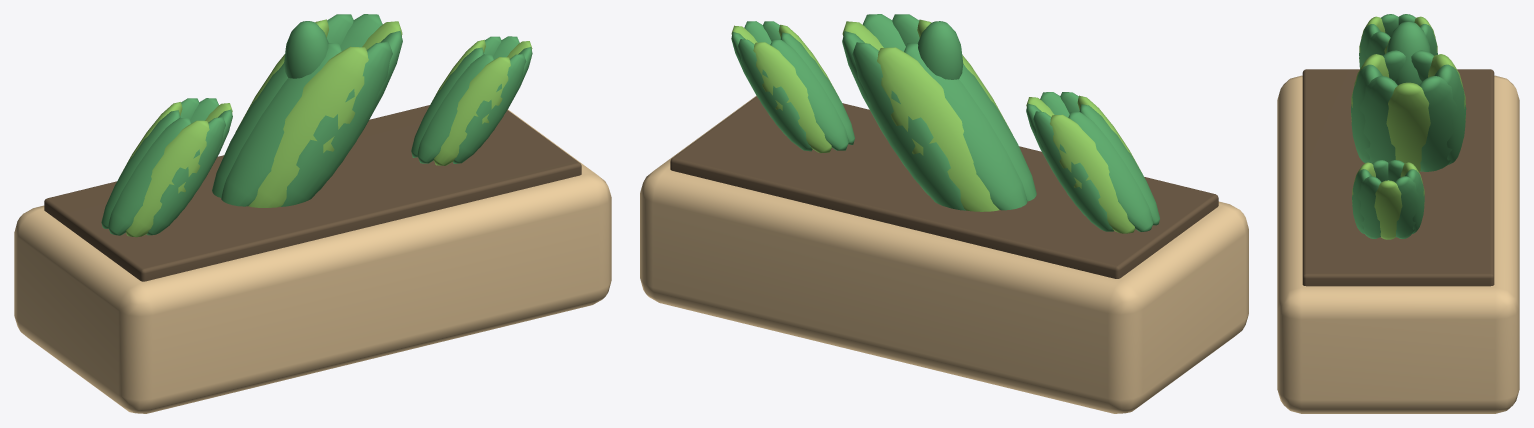
File: BotanicalPlanter.fbx
3 views of the same model, side by side, from view 1: azimuth 30°, elevation 25°; view 2: azimuth 150°, elevation 25°; view 3: azimuth 270°, elevation 25° (orthographic). The views are drawn at different scales.
Visible parts, largest first — view 1: Planter_Basin, Planter_Soil, Planter_SucculentLeaf.015, Planter_SucculentLeaf.016, Planter_SucculentLeaf.014, Planter_SucculentLeaf.006, Planter_SucculentLeaf.024, Planter_SucculentLeaf.007, Planter_SucculentLeaf.005, Planter_SucculentLeaf.025, Planter_SucculentLeaf.023, Planter_SucculentLeaf.013 (+6 smaller); view 2: Planter_Basin, Planter_Soil, Planter_SucculentLeaf.012, Planter_SucculentLeaf.011, Planter_SucculentLeaf.013, Planter_SucculentLeaf.003, Planter_SucculentLeaf.021, Planter_SucculentLeaf.002, Planter_SucculentLeaf.004, Planter_SucculentLeaf.020, Planter_SucculentLeaf.022, Planter_Core.001 (+6 smaller); view 3: Planter_Basin, Planter_Soil, Planter_SucculentLeaf.009, Planter_SucculentLeaf.010, Planter_SucculentLeaf.017, Planter_Core.001, Planter_SucculentLeaf.011, Planter_SucculentLeaf.016, Planter_SucculentLeaf.018, Planter_SucculentLeaf.019, Planter_SucculentLeaf.026, Planter_SucculentLeaf.020 (+11 smaller).
Boxes of the visible parts, left/top/right/bottom form: Planter_Basin: left=14, top=109, right=611, bottom=413; Planter_Soil: left=44, top=105, right=581, bottom=281; Planter_SucculentLeaf.015: left=248, top=46, right=368, bottom=207; Planter_SucculentLeaf.016: left=281, top=41, right=392, bottom=206; Planter_SucculentLeaf.014: left=221, top=43, right=341, bottom=206; Planter_SucculentLeaf.006: left=126, top=120, right=209, bottom=237; Planter_SucculentLeaf.024: left=433, top=57, right=510, bottom=165; Planter_SucculentLeaf.007: left=146, top=117, right=225, bottom=235; Planter_SucculentLeaf.005: left=108, top=118, right=191, bottom=235; Planter_SucculentLeaf.025: left=453, top=54, right=526, bottom=163; Planter_SucculentLeaf.023: left=417, top=54, right=493, bottom=163; Planter_SucculentLeaf.013: left=212, top=63, right=287, bottom=197; Planter_Basin: left=640, top=95, right=1248, bottom=413; Planter_Soil: left=670, top=96, right=1218, bottom=278; Planter_SucculentLeaf.012: left=877, top=47, right=999, bottom=211; Planter_SucculentLeaf.011: left=852, top=42, right=965, bottom=210; Planter_SucculentLeaf.013: left=904, top=43, right=1027, bottom=210; Planter_SucculentLeaf.003: left=1050, top=114, right=1135, bottom=233; Planter_SucculentLeaf.021: left=753, top=42, right=831, bottom=153; Planter_SucculentLeaf.002: left=1033, top=111, right=1113, bottom=231; Planter_SucculentLeaf.004: left=1068, top=112, right=1153, bottom=231; Planter_SucculentLeaf.020: left=737, top=39, right=812, bottom=151; Planter_SucculentLeaf.022: left=770, top=39, right=848, bottom=150; Planter_Core.001: left=917, top=21, right=963, bottom=79; Planter_Basin: left=1277, top=75, right=1519, bottom=413; Planter_Soil: left=1302, top=69, right=1494, bottom=286; Planter_SucculentLeaf.009: left=1386, top=82, right=1430, bottom=171; Planter_SucculentLeaf.010: left=1419, top=76, right=1457, bottom=171; Planter_SucculentLeaf.017: left=1360, top=76, right=1397, bottom=163; Planter_Core.001: left=1386, top=21, right=1430, bottom=85; Planter_SucculentLeaf.011: left=1434, top=64, right=1466, bottom=164; Planter_SucculentLeaf.016: left=1351, top=64, right=1382, bottom=162; Planter_SucculentLeaf.018: left=1374, top=180, right=1402, bottom=239; Planter_SucculentLeaf.019: left=1395, top=176, right=1418, bottom=238; Planter_SucculentLeaf.026: left=1357, top=176, right=1381, bottom=238; Planter_SucculentLeaf.020: left=1405, top=169, right=1424, bottom=233.
Bounding box in the file's own units: 2.7 × 1.56 × 1.2.
